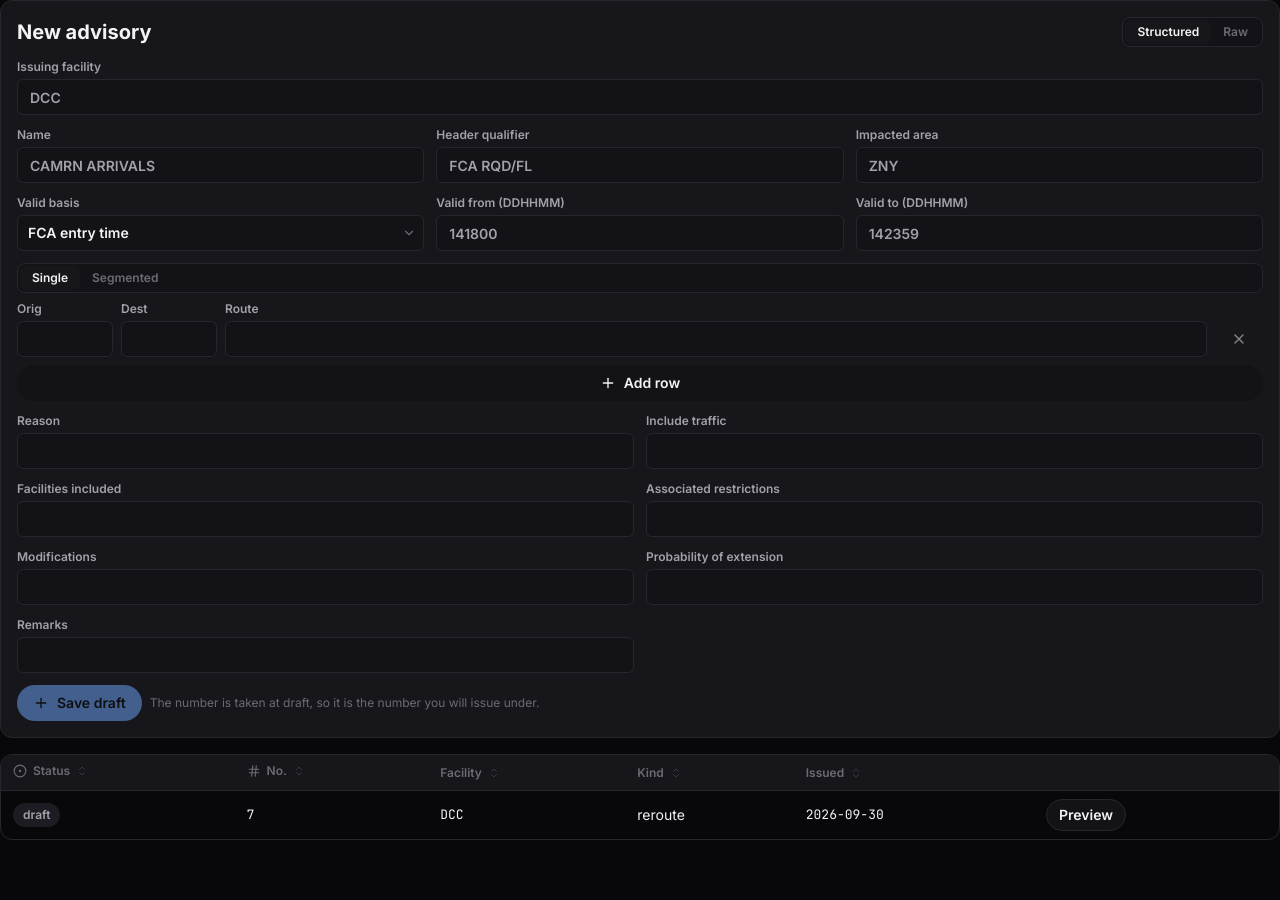
Test: AdvisoriesTab entry mode (VATUSA/OIS#460 AC1) › switches between structured and raw, the same toggle as TMIs
The width and height of the screenshot is (1280, 900).
What coordinates should you click on to do the following:
click the radio button labelled "Raw"
I would click on:
 (1236, 32)
Its box is [1211,20,1260,44].
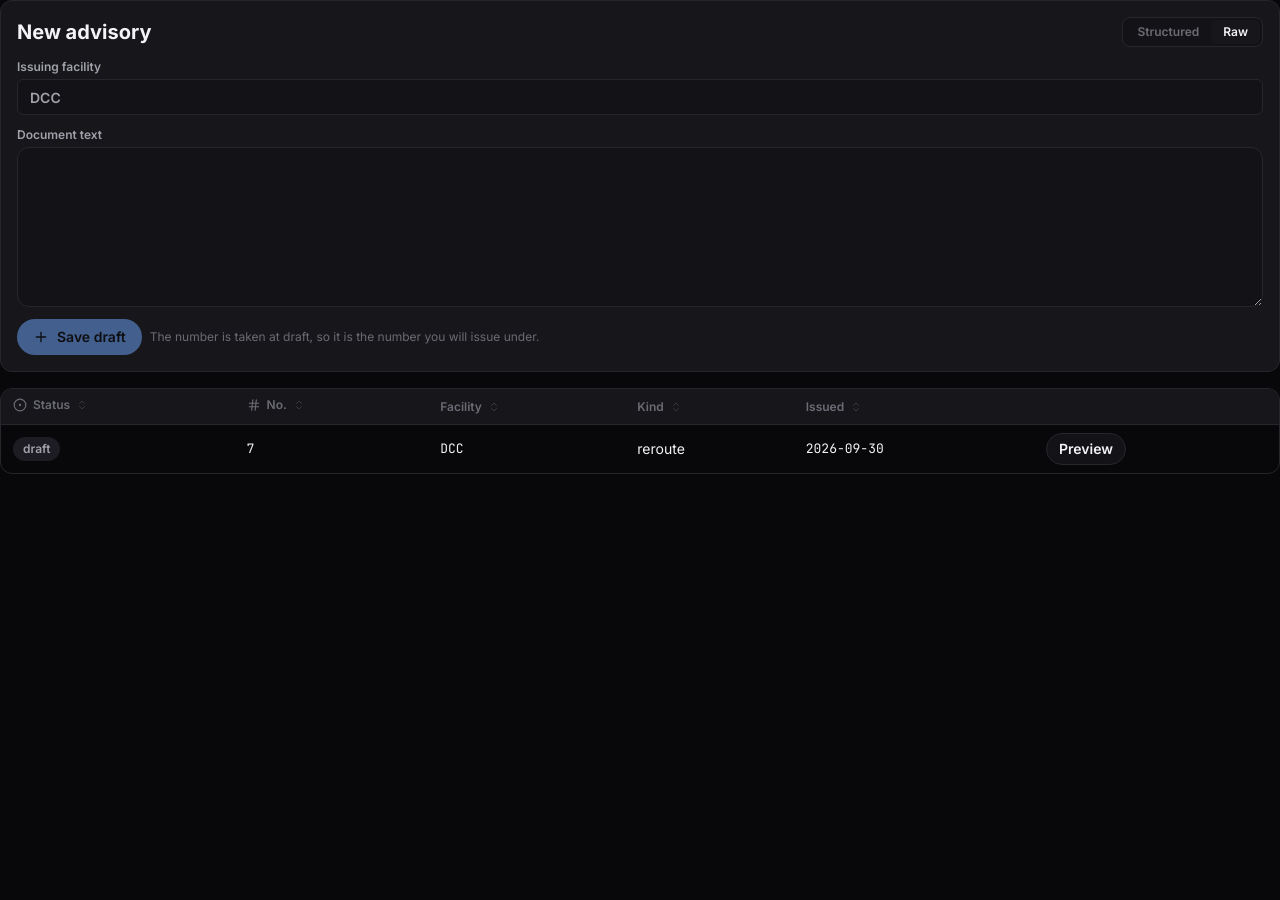
Result: the text box named "Document text" is shown at [17,147,1263,307]
